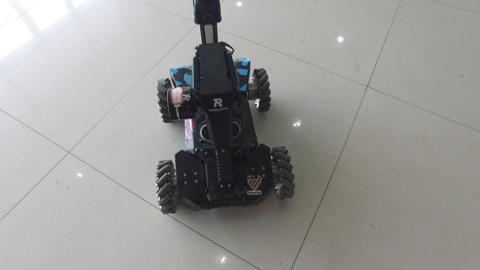chariot: (119, 7, 298, 232)
